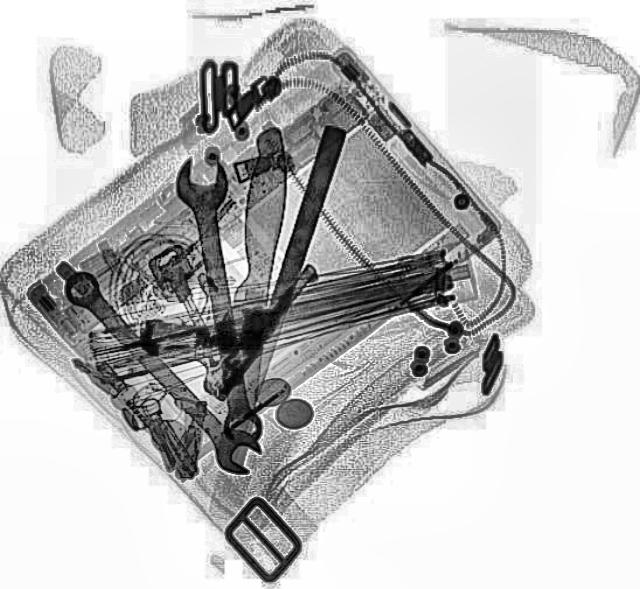Gun: (124, 218, 316, 400)
Knife: (224, 124, 346, 434), (214, 124, 292, 440)
Wrench: (48, 262, 272, 482), (168, 152, 276, 446)
